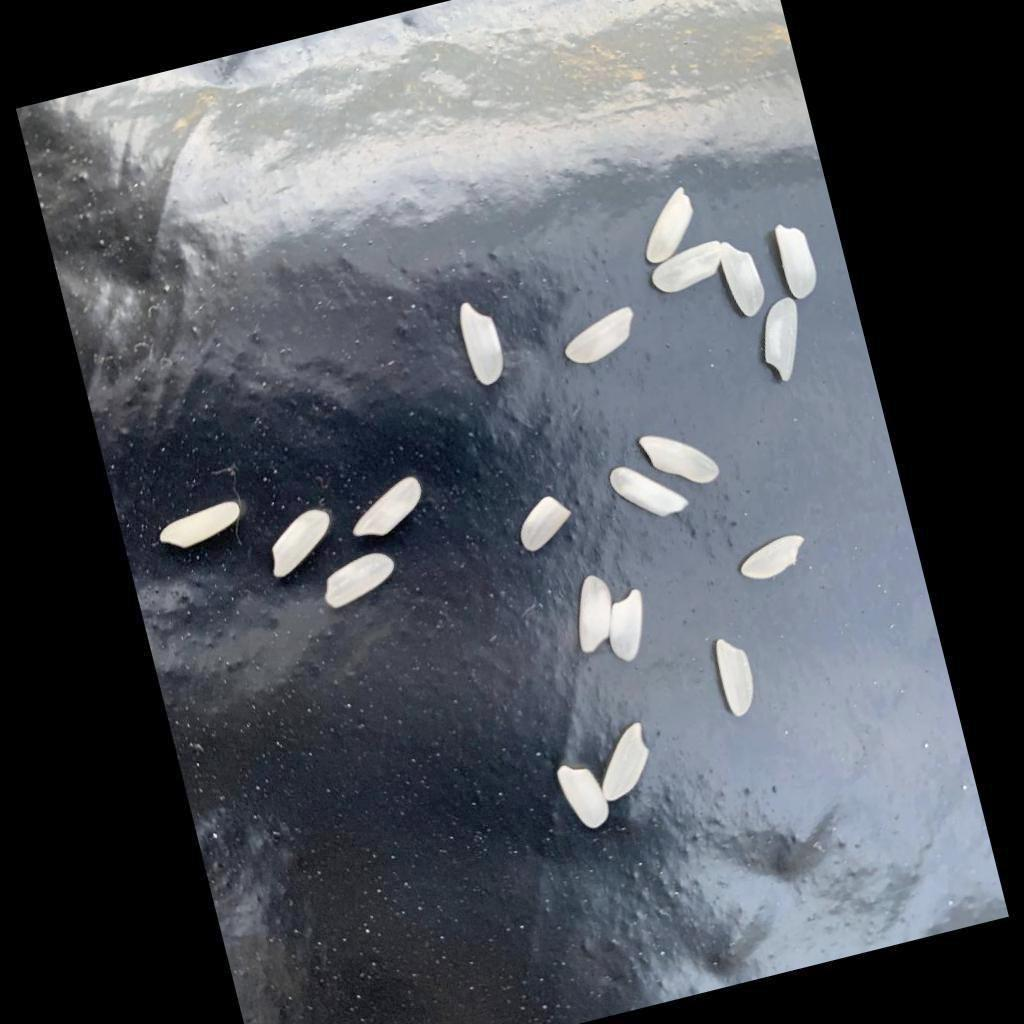rice: (638, 419, 724, 498), (607, 451, 693, 528), (630, 183, 703, 265), (751, 296, 815, 389), (260, 506, 340, 580), (588, 722, 659, 804), (343, 475, 429, 542), (557, 305, 643, 370), (317, 549, 401, 612), (455, 296, 511, 389), (155, 498, 246, 553), (564, 571, 623, 655), (646, 239, 729, 297), (773, 216, 825, 304), (599, 589, 656, 666), (555, 758, 612, 835), (512, 490, 580, 554), (711, 634, 761, 719), (719, 235, 769, 320), (736, 533, 813, 586)
